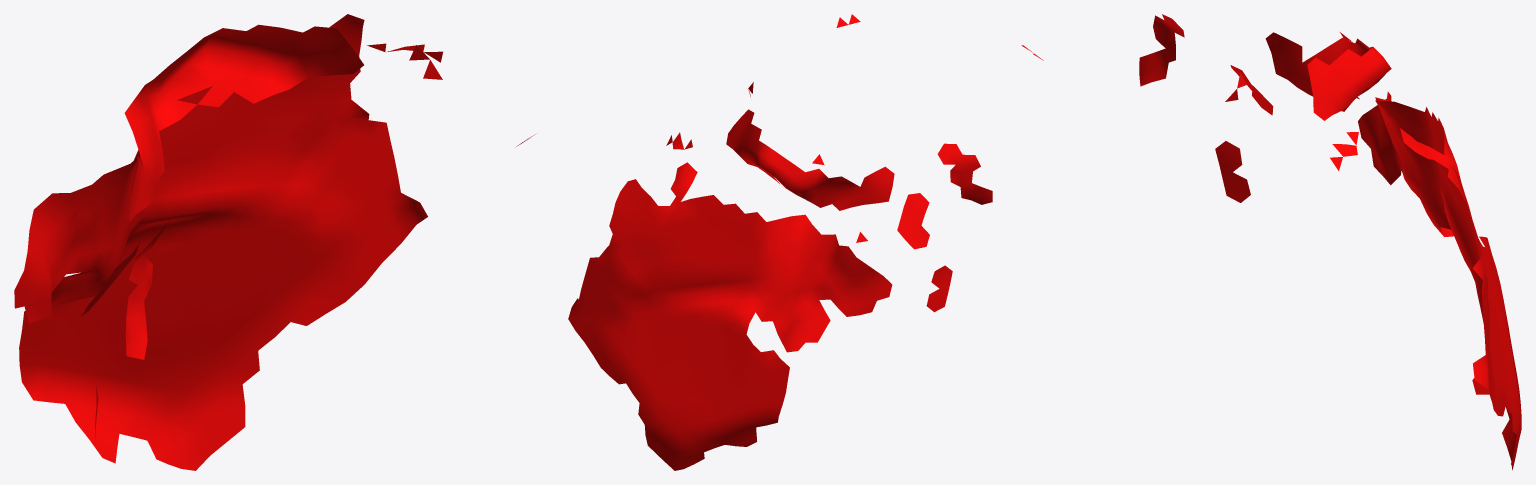
Rendered from SM_GPUI_RockAB_70.fbx.
The picture shows the model from 3 angles, left to right: view 1: azimuth 30°, elevation 25°; view 2: azimuth 150°, elevation 25°; view 3: azimuth 270°, elevation 25°; orthographic projection. The views are drawn at different scales.
Parts seen in each view (by area): view 1: SM_GPUI_RockAB_70; view 2: SM_GPUI_RockAB_70; view 3: SM_GPUI_RockAB_70.
Boxes of the visible parts, <box> form: SM_GPUI_RockAB_70: <box>14,14,535,470</box>; SM_GPUI_RockAB_70: <box>568,14,992,470</box>; SM_GPUI_RockAB_70: <box>1021,14,1521,469</box>.
Bounding box in the file's own units: 1071 × 1111 × 1173.
